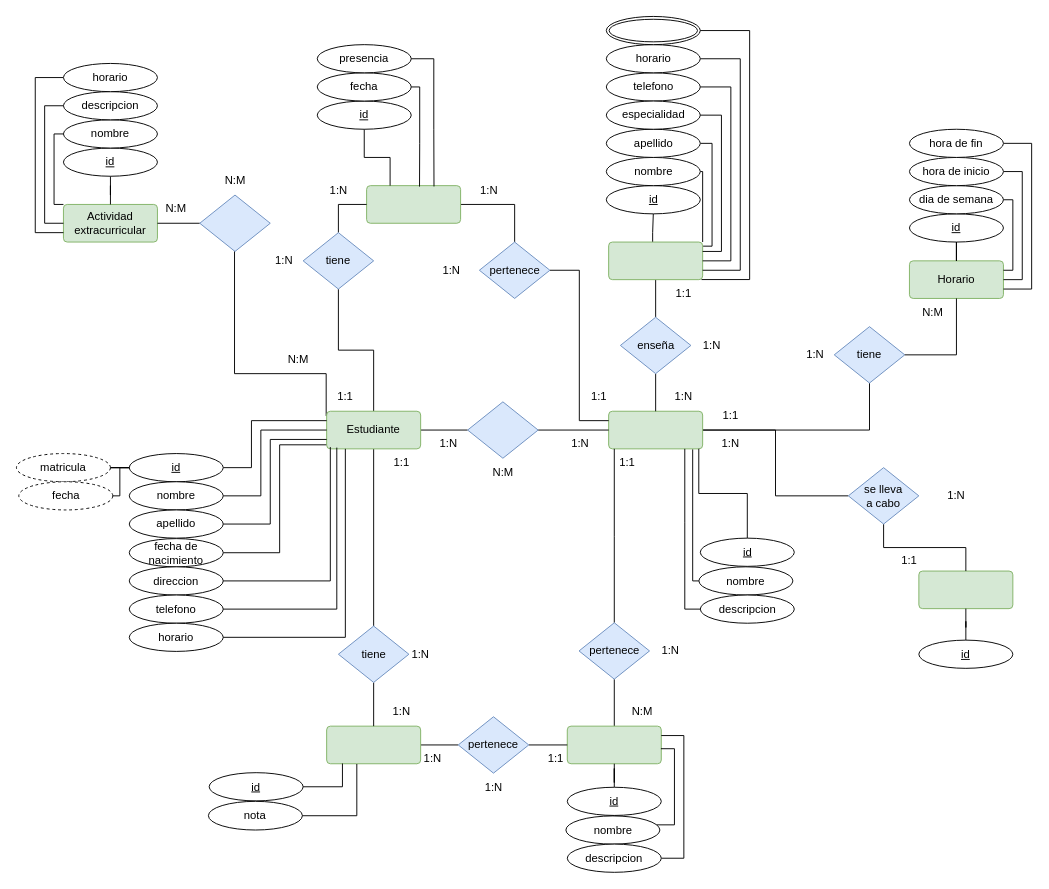
Some shapes in this 1049 by 889 pixel diagram are drawn without their labels. The centre of each missing label's shape, as x and y in pixels:
"Asistencia" belongs at (413,204).
"Aula" belongs at (965,589).
"Calificacion" belongs at (373,744).
"Curso" belongs at (655,429).
"e-mail" belongs at (652,30).
"Materia" belongs at (613,744).
"matriculado" belongs at (502,429).
"Profesor" belongs at (655,260).
"realiza" belongs at (234,222).
